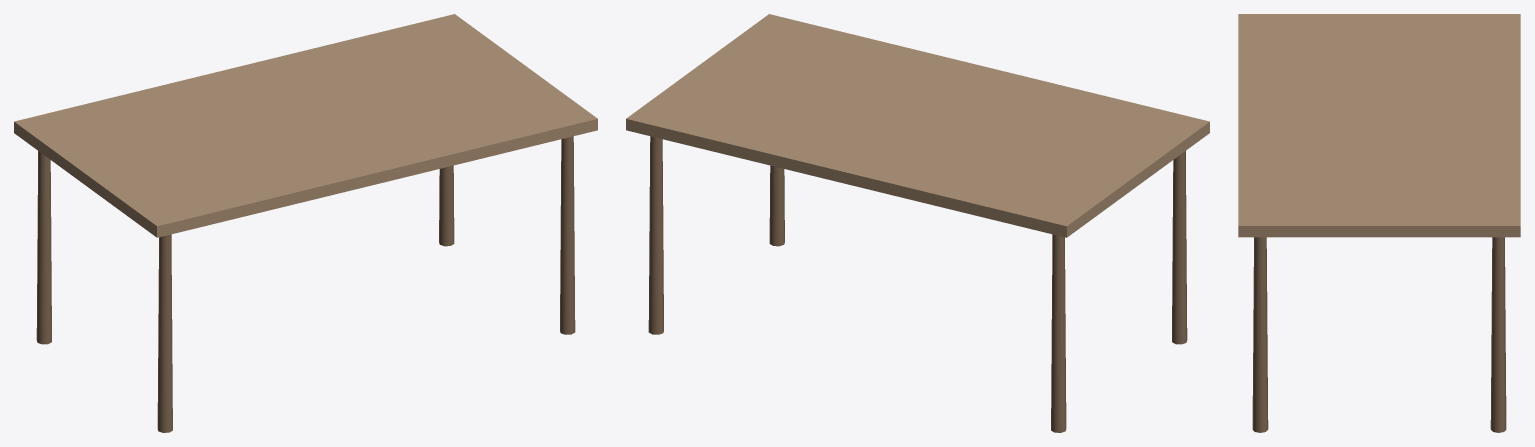
The model's file is 0985-Furniture-interiors-table.glb.
3 views of the same model, side by side, from view 1: azimuth 30°, elevation 25°; view 2: azimuth 150°, elevation 25°; view 3: azimuth 270°, elevation 25° (orthographic).
Parts seen in each view (by area): view 1: Furniture (interiors)/table; view 2: Furniture (interiors)/table; view 3: Furniture (interiors)/table.
Part boxes in pixels (left/top/right/bottom): Furniture (interiors)/table: left=14, top=14, right=597, bottom=432; Furniture (interiors)/table: left=626, top=14, right=1209, bottom=432; Furniture (interiors)/table: left=1238, top=14, right=1520, bottom=432.
Size of the model in its own units: 1.6 by 0.75 by 0.9.
